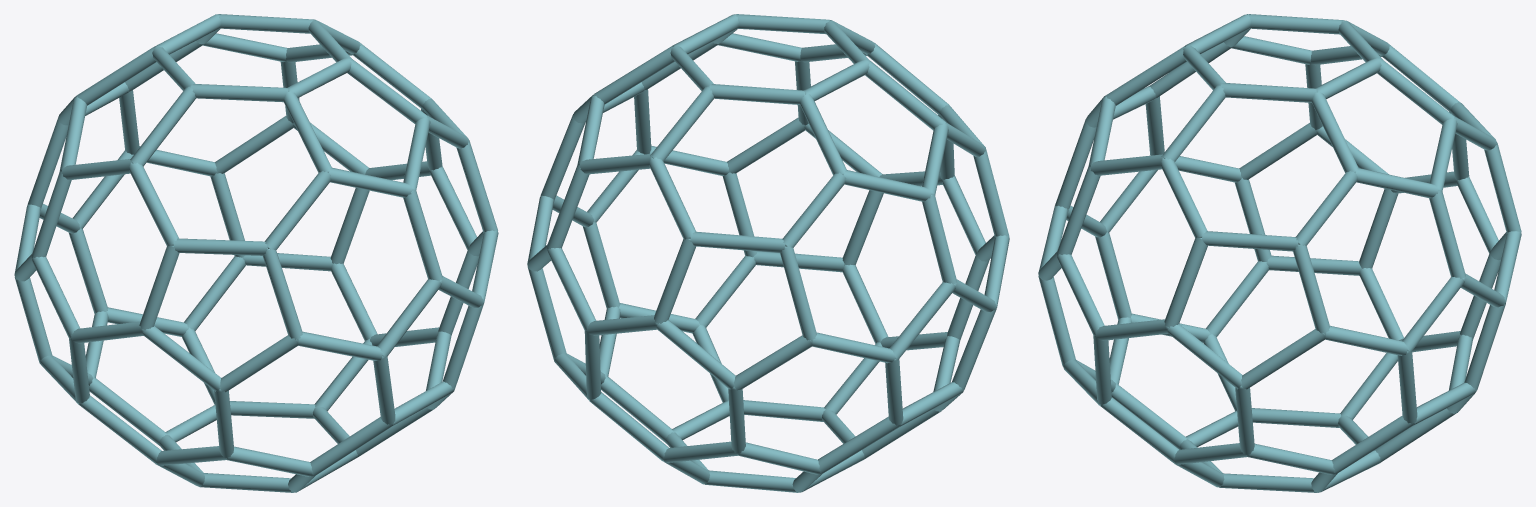
Rendered from pdb-5et3-fullerene.glb.
The picture shows the model from 3 angles, left to right: view 1: azimuth 30°, elevation 25°; view 2: azimuth 150°, elevation 25°; view 3: azimuth 270°, elevation 25°; orthographic projection.
Visible parts, largest first — view 1: Buckminsterfullerene; view 2: Buckminsterfullerene; view 3: Buckminsterfullerene.
Part boxes in pixels (bbox=[...]): Buckminsterfullerene: bbox=[14, 14, 498, 492]; Buckminsterfullerene: bbox=[527, 14, 1009, 492]; Buckminsterfullerene: bbox=[1038, 14, 1521, 492].
Bounding box in the file's own units: 0.7086 × 0.6626 × 0.7165.
